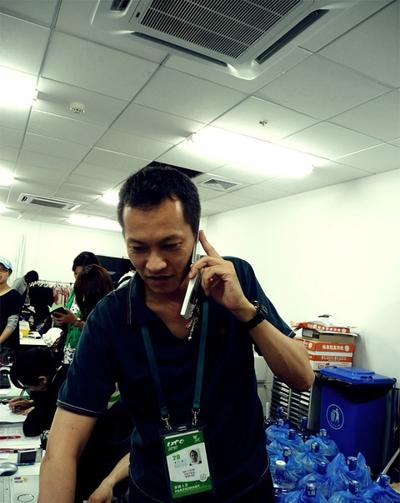person: (38, 162, 316, 503)
